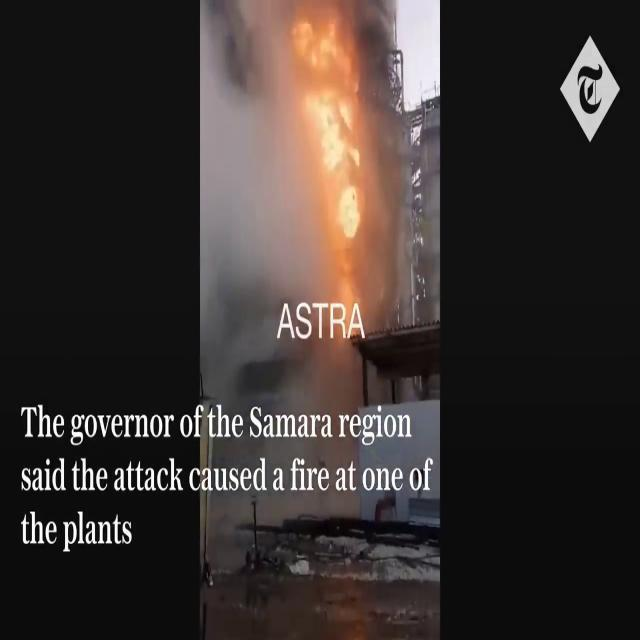Fire: (288, 4, 373, 242)
Smoke: (199, 1, 417, 313)
